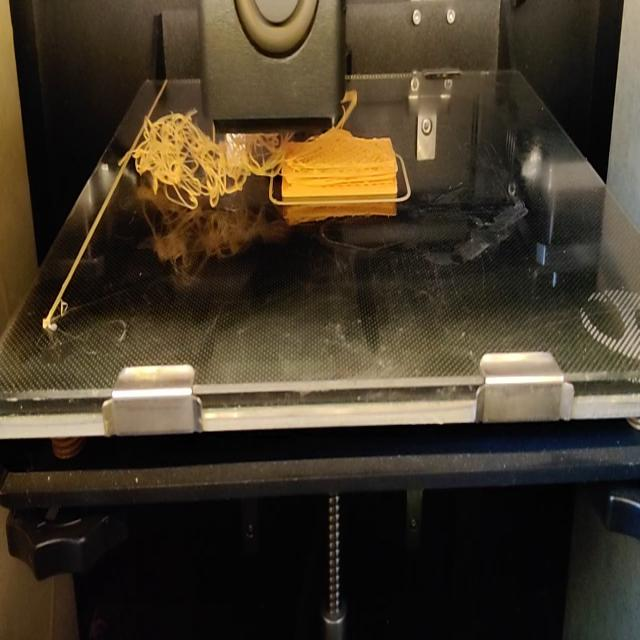spaghetti: (125, 99, 215, 217), (214, 131, 272, 200)
